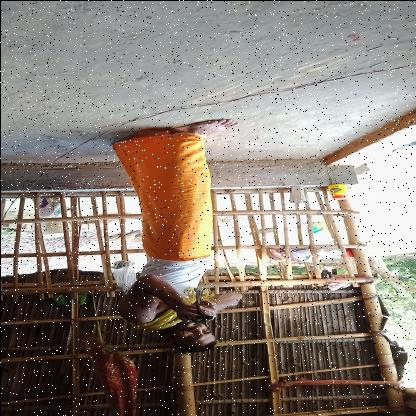rifle: (188, 314, 214, 322)
